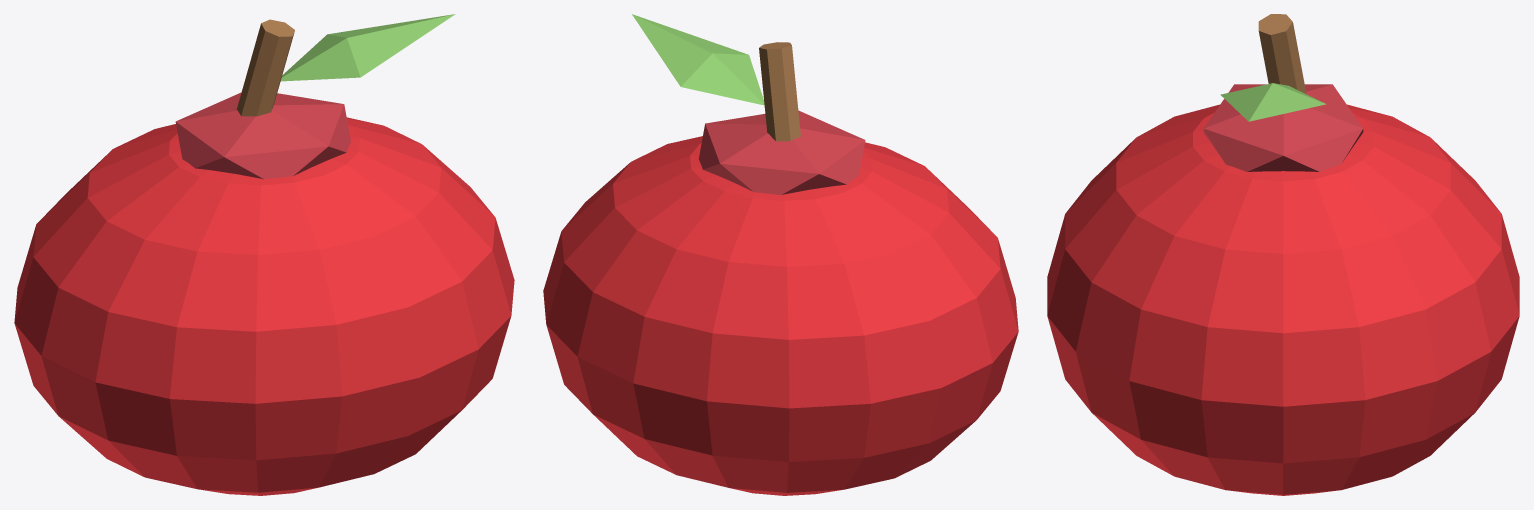
The model's file is apple.glb.
The picture shows the model from 3 angles, left to right: view 1: azimuth 30°, elevation 25°; view 2: azimuth 150°, elevation 25°; view 3: azimuth 270°, elevation 25°; orthographic projection. The views are drawn at different scales.
Visible parts, largest first — view 1: squat faceted apple, top apple dimple shadow, apple leaf, apple stem; view 2: squat faceted apple, top apple dimple shadow, apple leaf, apple stem; view 3: squat faceted apple, top apple dimple shadow, apple stem, apple leaf.
Part boxes in pixels (x1,y1,x2,y2): squat faceted apple: [14, 117, 514, 495]; top apple dimple shadow: [175, 92, 350, 179]; apple leaf: [281, 14, 455, 81]; apple stem: [236, 19, 294, 116]; squat faceted apple: [543, 136, 1018, 495]; top apple dimple shadow: [699, 110, 865, 194]; apple leaf: [632, 14, 764, 105]; apple stem: [759, 42, 800, 141]; squat faceted apple: [1047, 104, 1519, 495]; top apple dimple shadow: [1203, 84, 1363, 171]; apple stem: [1258, 14, 1306, 94]; apple leaf: [1220, 83, 1326, 121].
Bounding box in the file's own units: 1.2 × 1.15 × 1.09.
